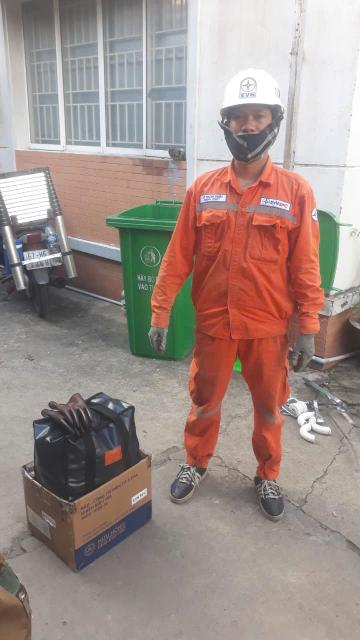gloves: (282, 311, 343, 376), (107, 297, 167, 363)
helmet: (208, 64, 297, 127)
shoes: (233, 476, 312, 527), (149, 453, 214, 514)
